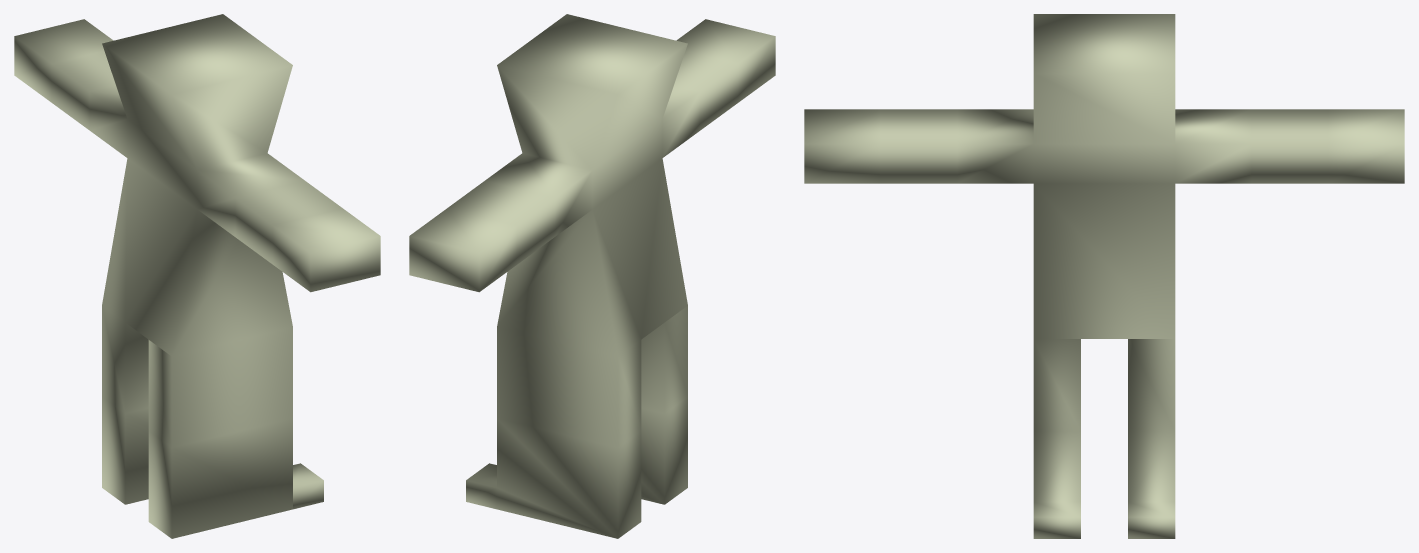
Rendered from perso_00.obj.
3 views of the same model, side by side, from view 1: azimuth 30°, elevation 25°; view 2: azimuth 150°, elevation 25°; view 3: azimuth 270°, elevation 25° (orthographic).
Visible parts, largest first — view 1: Cube1; view 2: Cube1; view 3: Cube1.
Part boxes in pixels (x1,y1,x2,y2): Cube1: (14, 14, 380, 538); Cube1: (409, 14, 775, 538); Cube1: (804, 14, 1404, 538).
Size of the model in its own units: 2.51 by 7.01 by 8.48.
